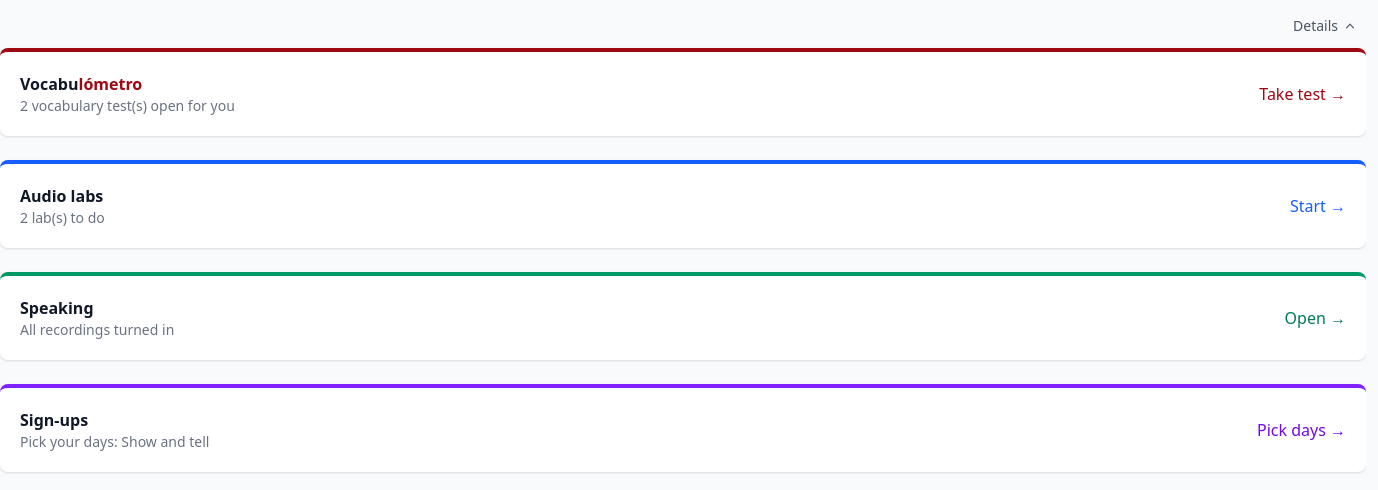
Test case: folding the notices › folds them into one row of chips that keep their counts, stay links, and say what the count is
Click the button "Details" at (1326, 26), box [1285, 12, 1366, 40]
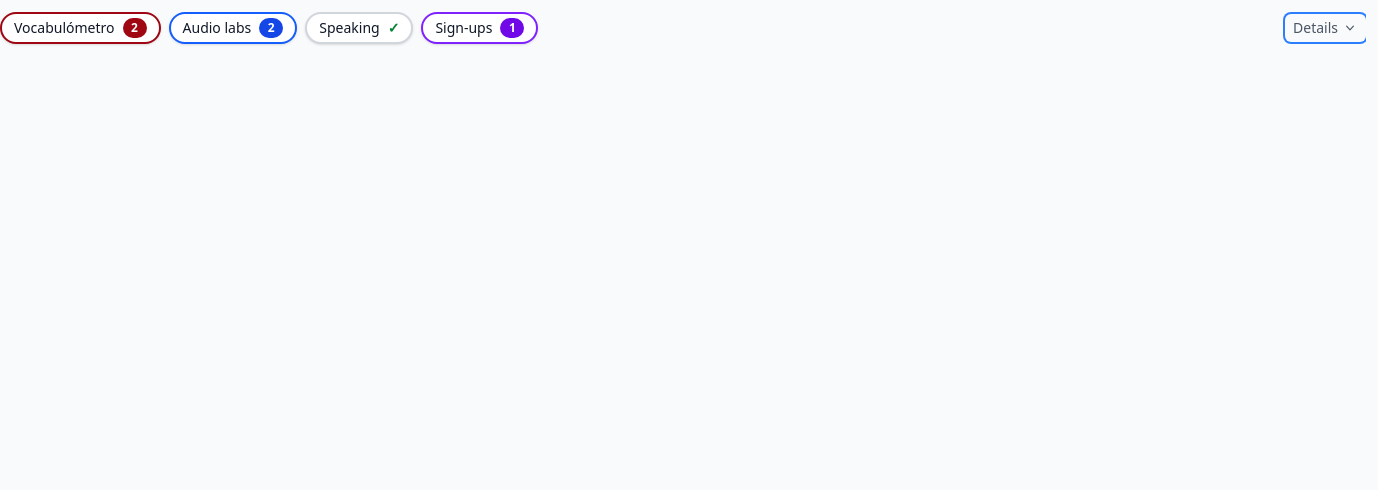
Expected: the button "Details" is collapsed, [1285, 14, 1366, 42]
Expected: the links read "Vocabulómetro2", "Audio labs2", "Speaking✓", "Sign-ups1", in this order, [0, 12, 160, 44]; [168, 12, 297, 44]; [305, 12, 413, 44]; [421, 12, 538, 44]
